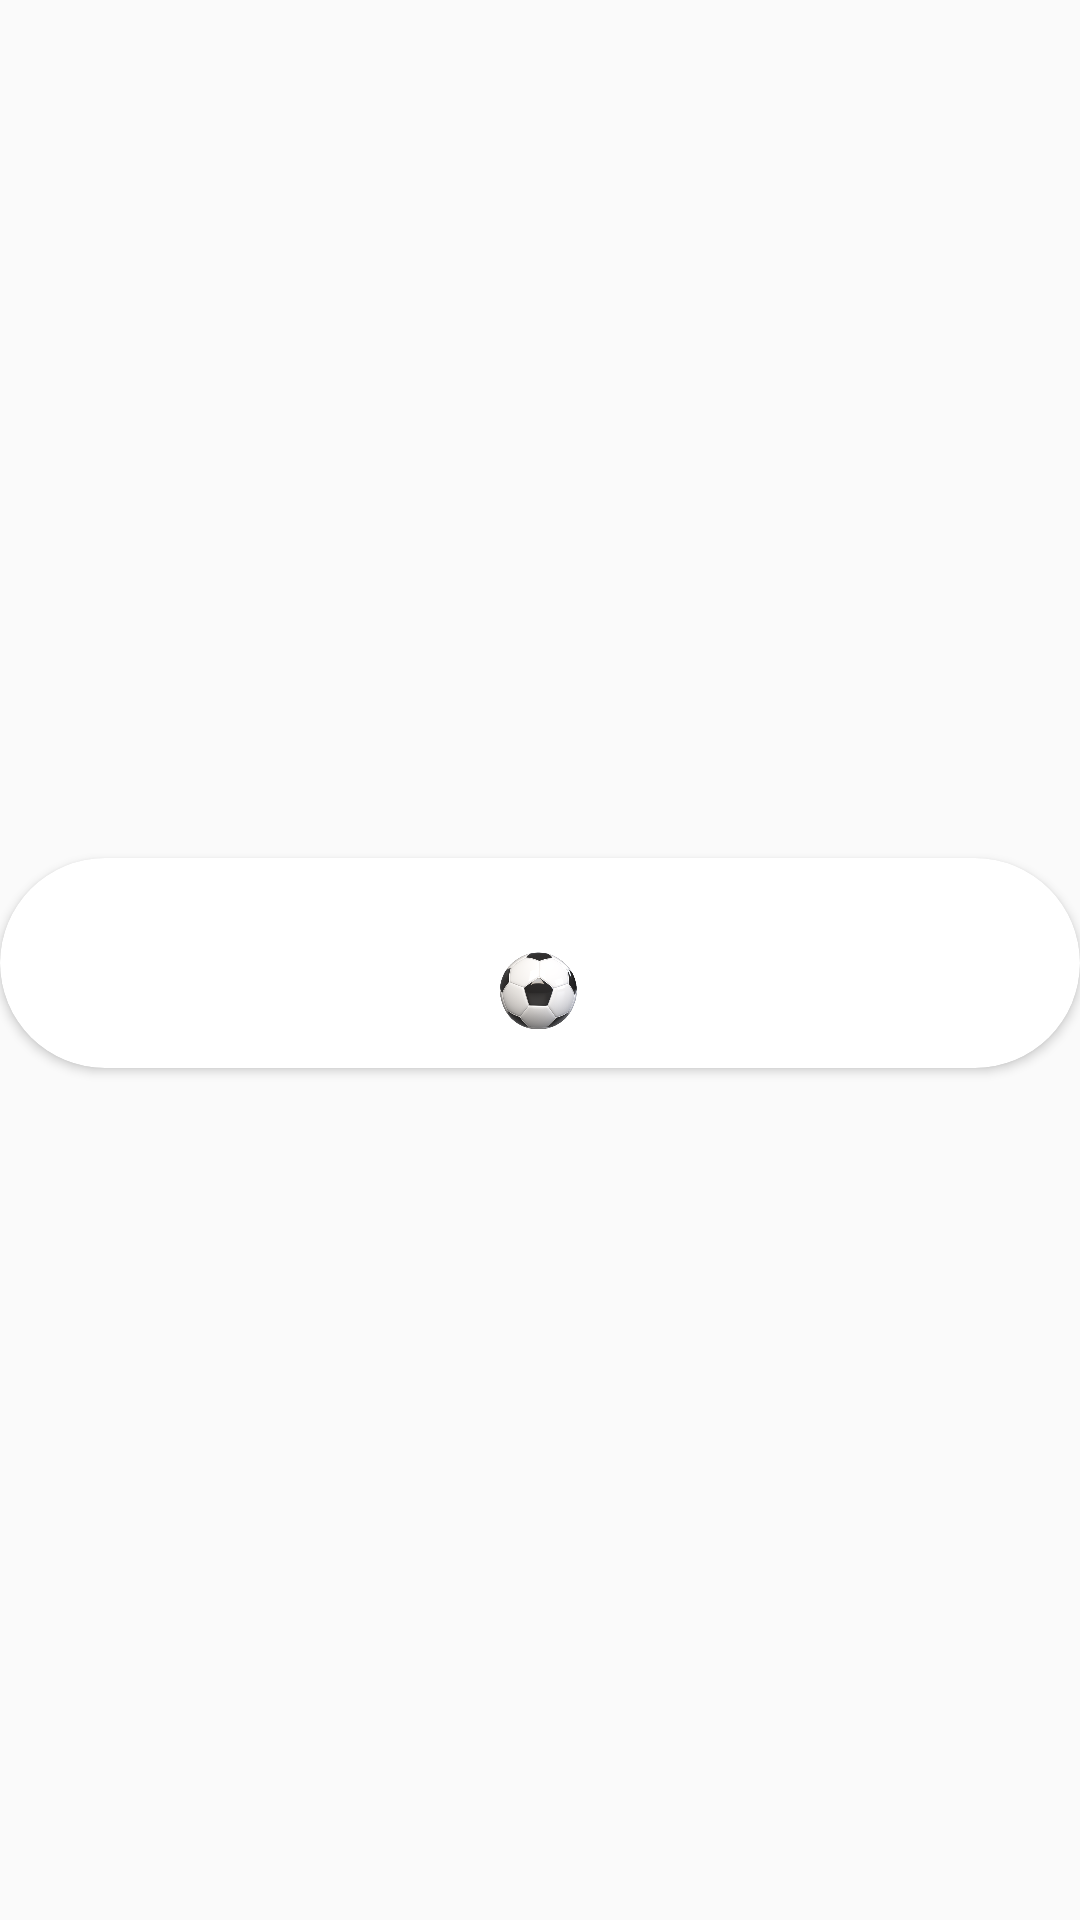

Icon bounding boxes for this 1080 × 1920 phone screenshot, format (left=x1, top=y1, right=x2, bottom=y2):
football: (left=500, top=952, right=577, bottom=1029)
